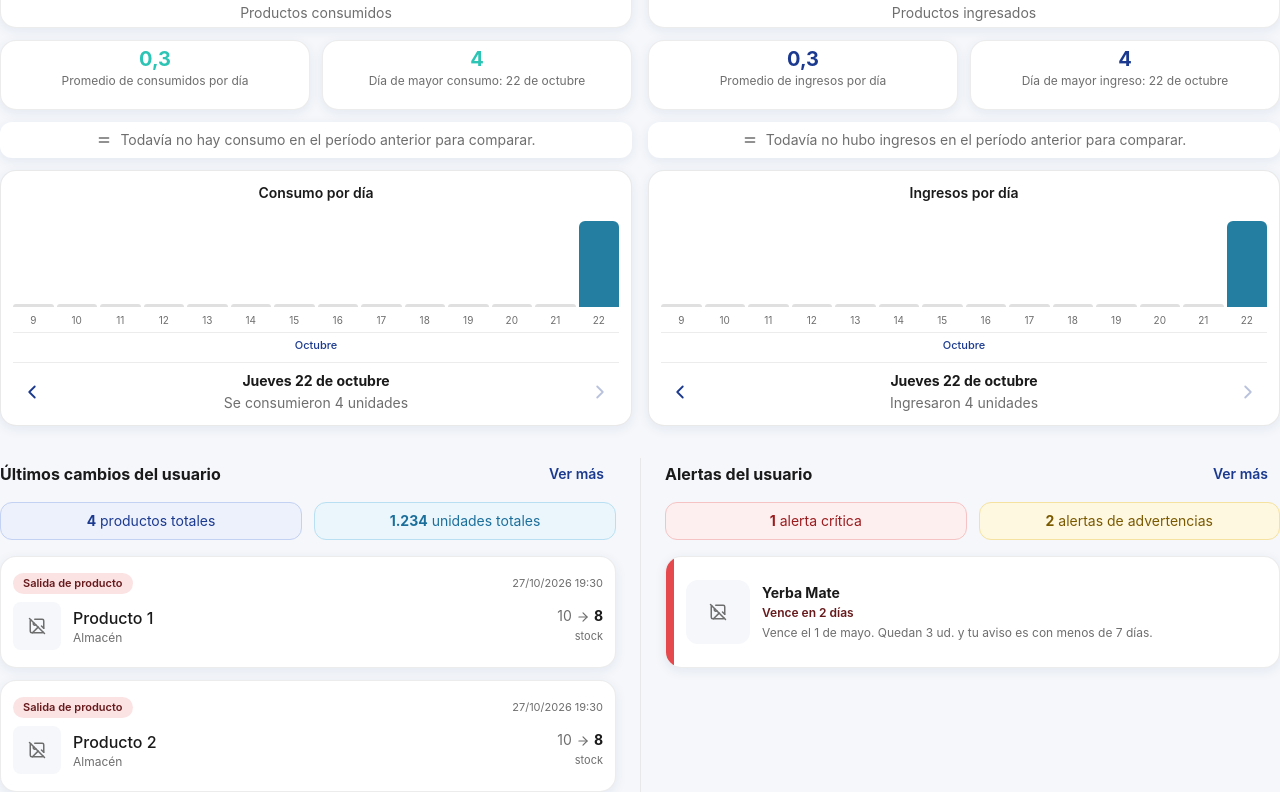
UserDetail · últimos cambios y alertas › abre el detalle de una alerta
(page scrolled)
Step 1. Click the button with test id "alert-item-expiry-1" → coordinates (718, 612), box [665, 556, 1279, 668]
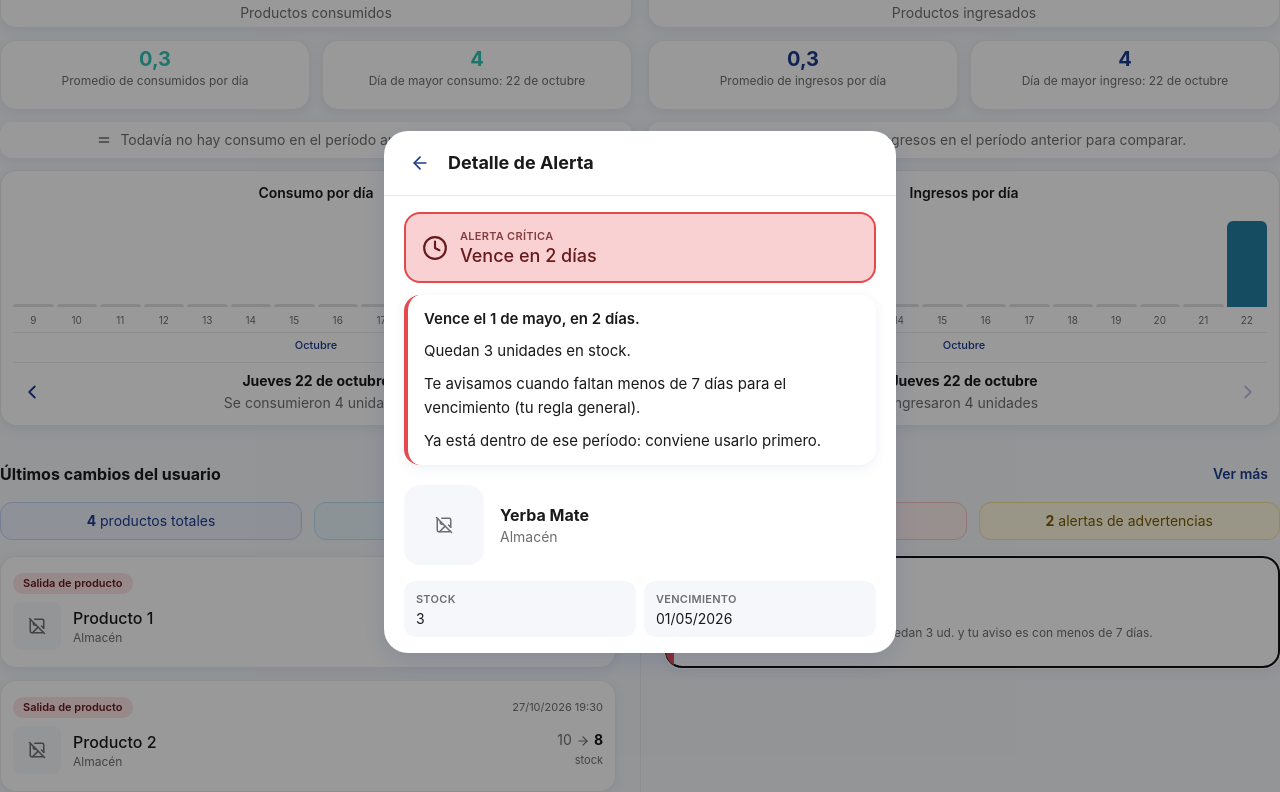
Now the dialog "Detalle de Alerta" is shown, box [384, 131, 896, 653]
Step 2. Click the button named "Volver" → coordinates (420, 163), box [404, 147, 436, 179]
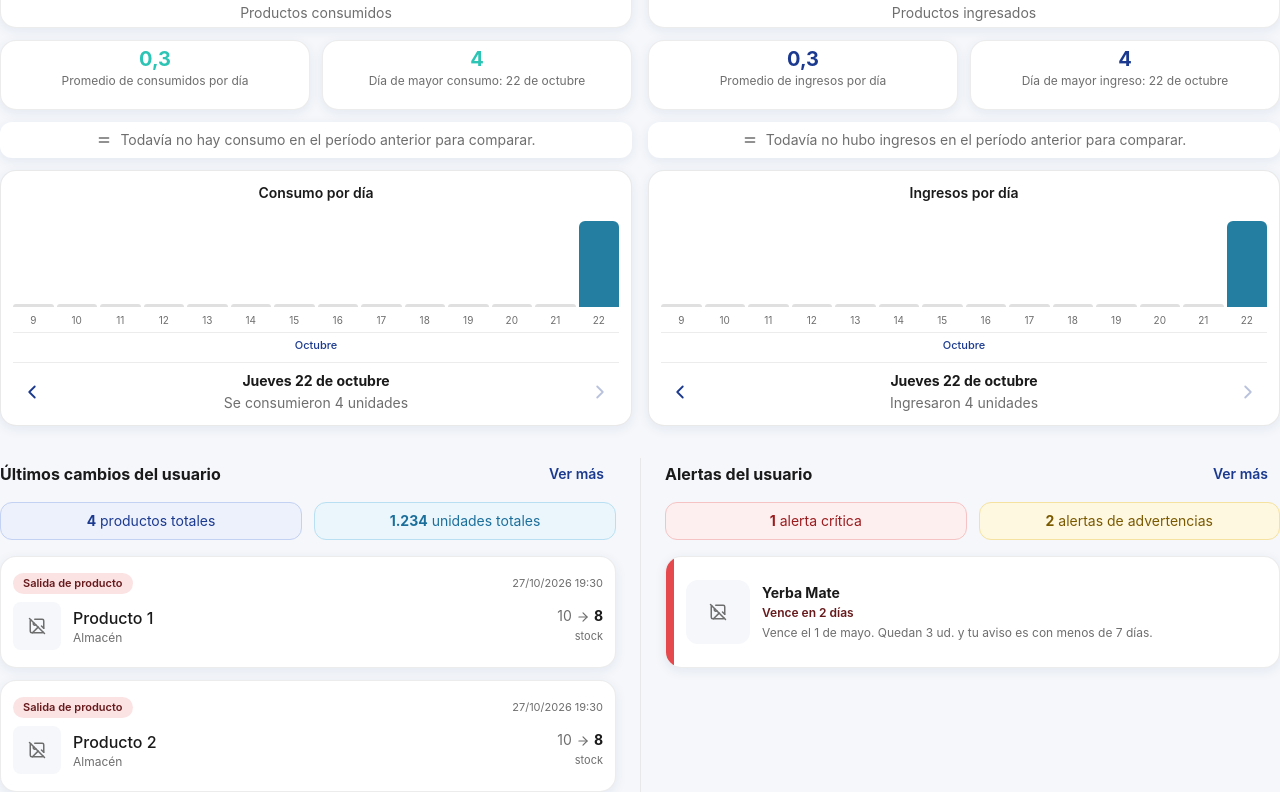
Now the dialog is gone
